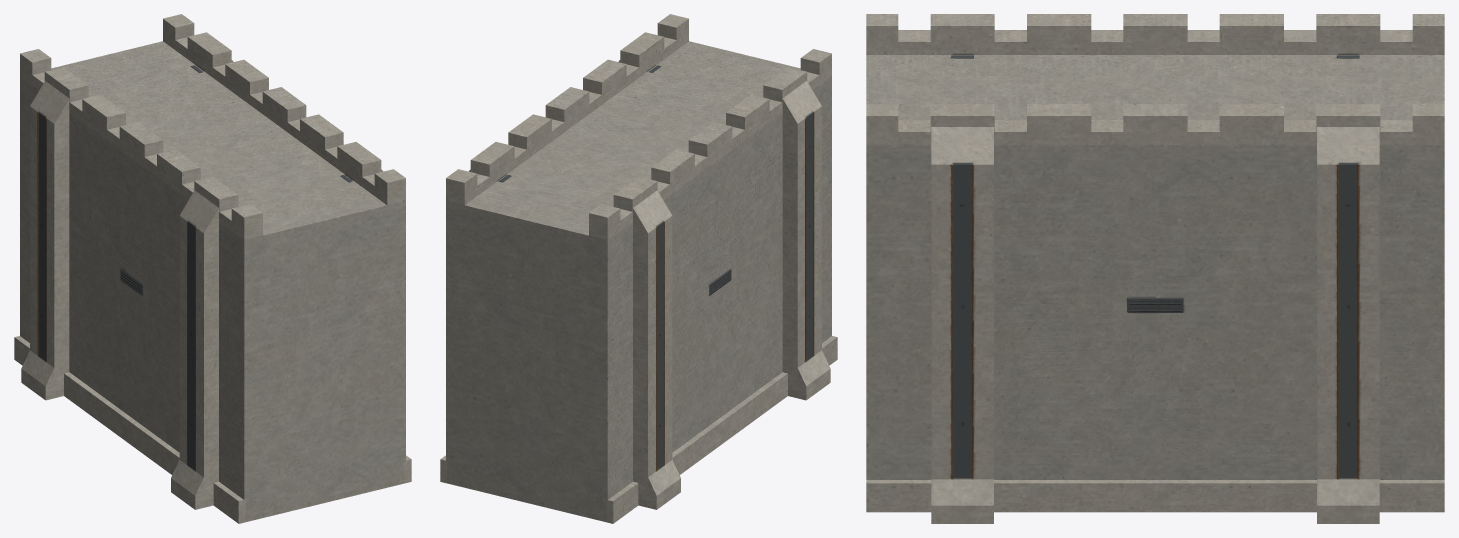
Rendered from straight.glb.
3 views of the same model, side by side, from view 1: azimuth 30°, elevation 25°; view 2: azimuth 150°, elevation 25°; view 3: azimuth 270°, elevation 25° (orthographic). The views are drawn at different scales.
Visible parts, largest first — view 1: straight-geometry0, straight-geometry1; view 2: straight-geometry0, straight-geometry1; view 3: straight-geometry0, straight-geometry1.
Boxes of the visible parts, x1=… form: straight-geometry0: x1=15, y1=15, x2=409, y2=521; straight-geometry1: x1=14, y1=14, x2=411, y2=523; straight-geometry0: x1=442, y1=15, x2=836, y2=521; straight-geometry1: x1=440, y1=14, x2=837, y2=523; straight-geometry0: x1=868, y1=15, x2=1442, y2=521; straight-geometry1: x1=866, y1=14, x2=1444, y2=523.
Bounding box in the file's own units: 38.8 × 54 × 72.
7 materials, 7 textured.
